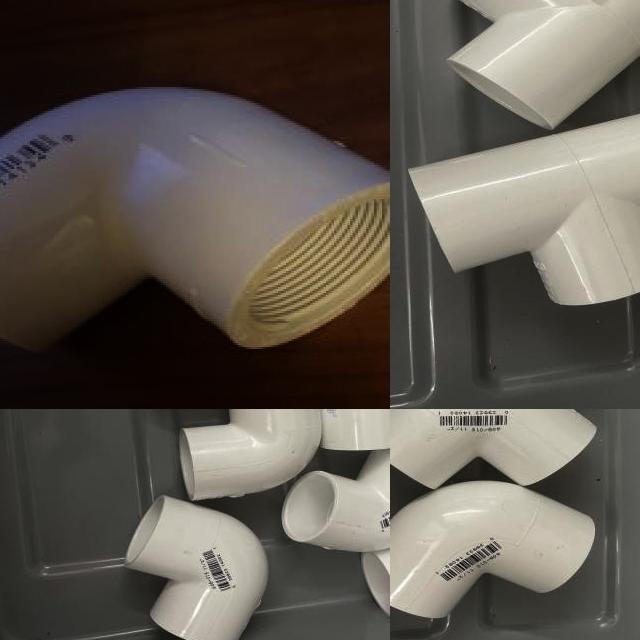L Joint: (0, 86, 390, 357), (390, 483, 598, 623), (125, 496, 266, 640), (390, 409, 597, 488), (181, 409, 322, 503), (282, 450, 390, 552)
T Joint: (408, 113, 640, 307)
